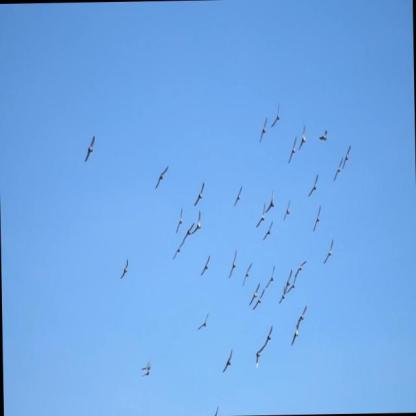bird: (154, 164, 170, 190), (83, 136, 96, 165), (323, 237, 336, 266), (251, 286, 266, 311), (254, 201, 267, 229), (282, 263, 293, 295), (264, 263, 277, 290), (248, 280, 261, 307), (257, 115, 269, 144), (227, 249, 238, 280), (192, 182, 205, 208), (241, 260, 253, 288), (222, 346, 234, 374), (287, 134, 298, 164), (254, 344, 267, 369), (312, 204, 323, 233), (332, 155, 343, 183), (264, 189, 276, 214), (231, 184, 244, 207), (270, 101, 281, 128), (308, 171, 319, 198), (192, 209, 202, 238), (262, 219, 274, 243), (290, 321, 301, 347), (297, 123, 307, 151), (196, 311, 210, 331), (172, 241, 185, 262), (342, 145, 352, 171), (200, 254, 211, 277), (262, 325, 274, 346), (282, 197, 292, 222), (182, 222, 195, 241), (119, 257, 129, 281), (293, 260, 307, 277), (175, 207, 183, 235), (296, 304, 307, 324), (289, 276, 299, 297), (317, 128, 328, 142), (279, 284, 286, 304), (140, 360, 151, 371), (141, 366, 151, 378)
